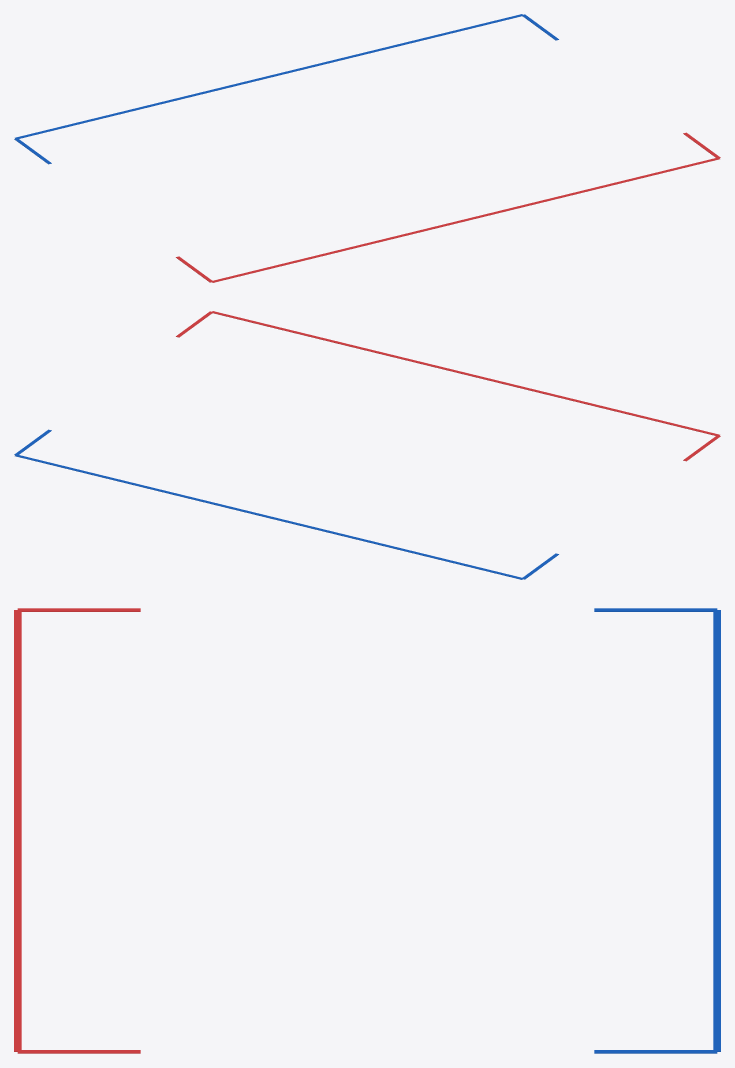
3 views of the same model, one above another, from view 1: azimuth 30°, elevation 25°; view 2: azimuth 150°, elevation 25°; view 3: azimuth 270°, elevation 25° (orthographic). The views are drawn at different scales.
Bounding box in the file's own units: 139 × 0.05 × 93.44.
Materials: 2 (2 with a texture image).
